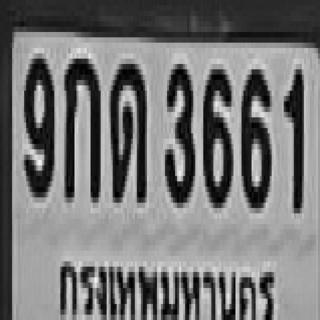A01: (62, 53, 102, 206)
A20: (108, 59, 149, 206)
N01: (282, 64, 302, 208)
N03: (163, 59, 196, 209)
N06: (239, 64, 272, 208), (201, 64, 233, 210)
N09: (22, 54, 55, 200)
P04: (54, 247, 286, 320)
